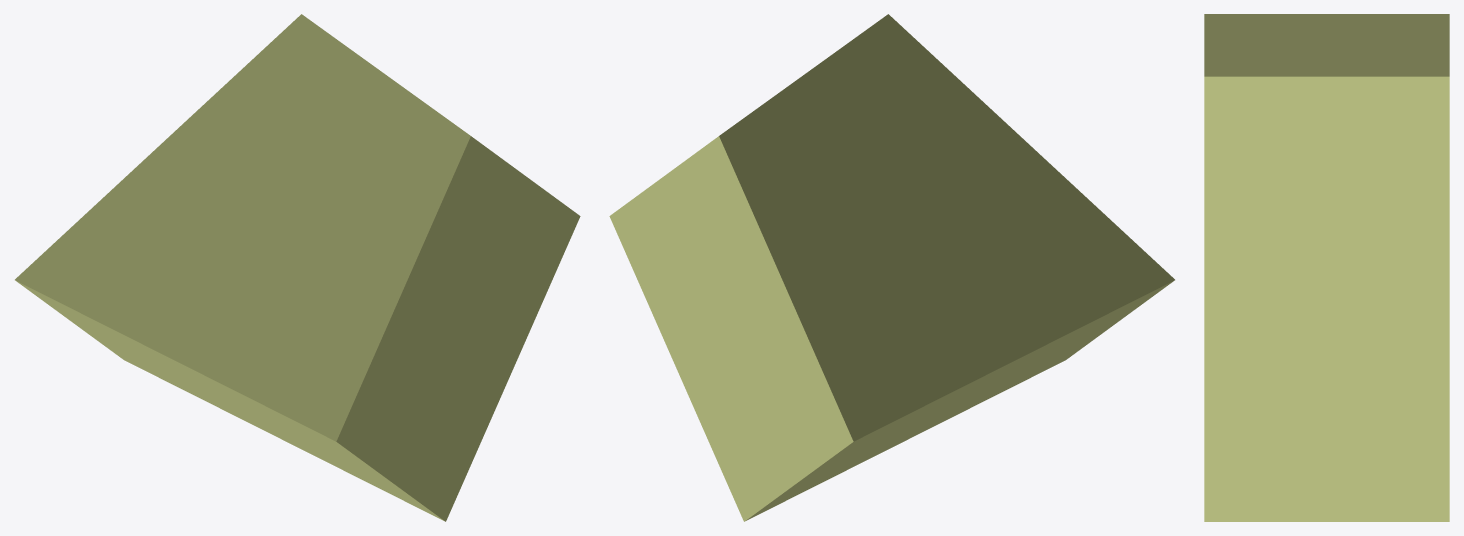
3 views of the same model, side by side, from view 1: azimuth 30°, elevation 25°; view 2: azimuth 150°, elevation 25°; view 3: azimuth 270°, elevation 25° (orthographic). The views are drawn at different scales.
Visible parts, largest first — view 1: 0_0_1_3_1_1_2_3_1; view 2: 0_0_1_3_1_1_2_3_1; view 3: 0_0_1_3_1_1_2_3_1.
Boxes of the visible parts, x1=… form: 0_0_1_3_1_1_2_3_1: x1=15, y1=14, x2=580, y2=521; 0_0_1_3_1_1_2_3_1: x1=609, y1=14, x2=1174, y2=521; 0_0_1_3_1_1_2_3_1: x1=1204, y1=14, x2=1449, y2=521.
Bounding box in the file's own units: 21.65 × 19.77 × 9.
